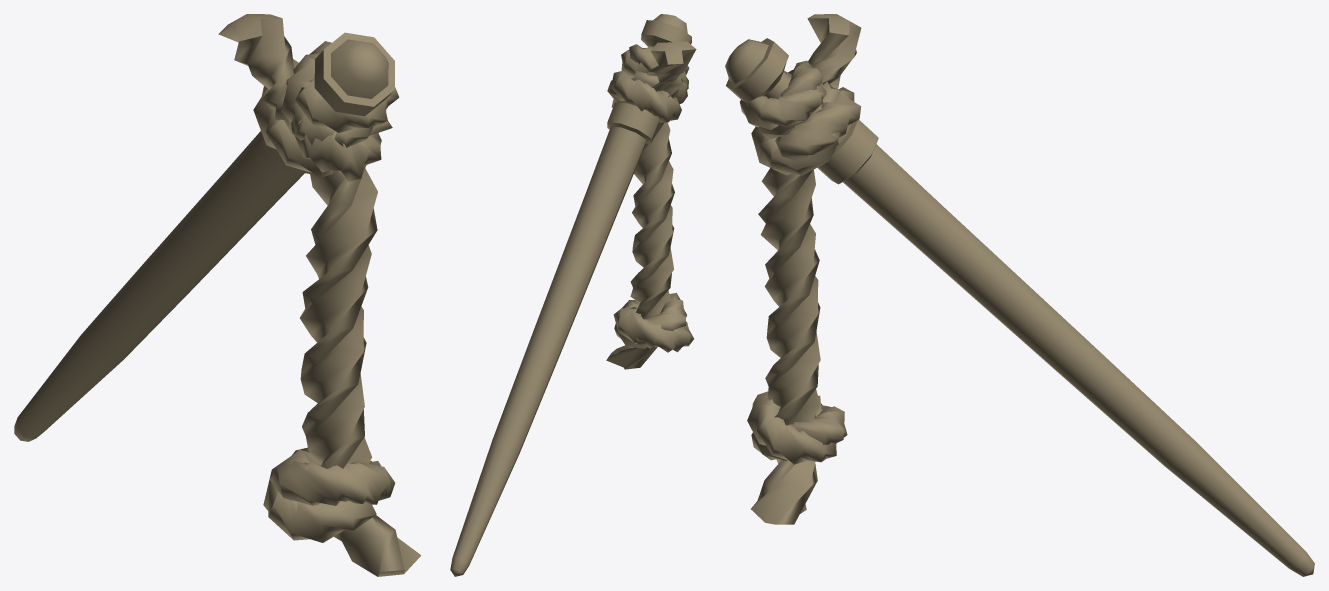
File: Rope Attachment Point.fbx
3 renders of one model, left to right at view 1: azimuth 30°, elevation 25°; view 2: azimuth 150°, elevation 25°; view 3: azimuth 270°, elevation 25°, orthographic. The views are drawn at different scales.
Parts seen in each view (by area): view 1: AttchmentSpike, Rope_Length, sweep5, sweep4, KnotBunch02, KnotBunch04, KnotBunch03, KnotBunch01; view 2: AttchmentSpike, Rope_Length, sweep4, KnotBunch01, sweep5, KnotBunch04, KnotBunch02, KnotBunch03; view 3: AttchmentSpike, Rope_Length, sweep5, KnotBunch01, KnotBunch03, KnotBunch02, sweep4, KnotBunch04.
Boxes of the visible parts, left/top/right/bottom form: AttchmentSpike: left=14, top=32, right=394, bottom=441; Rope_Length: left=218, top=14, right=421, bottom=576; sweep5: left=269, top=461, right=395, bottom=505; sweep4: left=263, top=447, right=376, bottom=542; KnotBunch02: left=280, top=106, right=381, bottom=181; KnotBunch04: left=281, top=41, right=373, bottom=147; KnotBunch03: left=295, top=78, right=399, bottom=132; KnotBunch01: left=253, top=86, right=392, bottom=177; AttchmentSpike: left=450, top=14, right=691, bottom=576; Rope_Length: left=606, top=41, right=696, bottom=369; sweep4: left=613, top=307, right=693, bottom=352; KnotBunch01: left=607, top=70, right=681, bottom=122; sweep5: left=614, top=293, right=686, bottom=348; KnotBunch04: left=629, top=44, right=688, bottom=90; KnotBunch02: left=609, top=71, right=687, bottom=107; KnotBunch03: left=621, top=48, right=689, bottom=75; AttchmentSpike: left=725, top=38, right=1314, bottom=576; Rope_Length: left=751, top=14, right=861, bottom=524; sweep5: left=747, top=391, right=836, bottom=464; KnotBunch01: left=775, top=87, right=861, bottom=161; KnotBunch03: left=740, top=70, right=826, bottom=129; KnotBunch02: left=751, top=81, right=840, bottom=175; sweep4: left=751, top=405, right=847, bottom=460; KnotBunch04: left=758, top=60, right=823, bottom=139.
Bounding box in the file's own units: 40.31 × 156 × 156.
